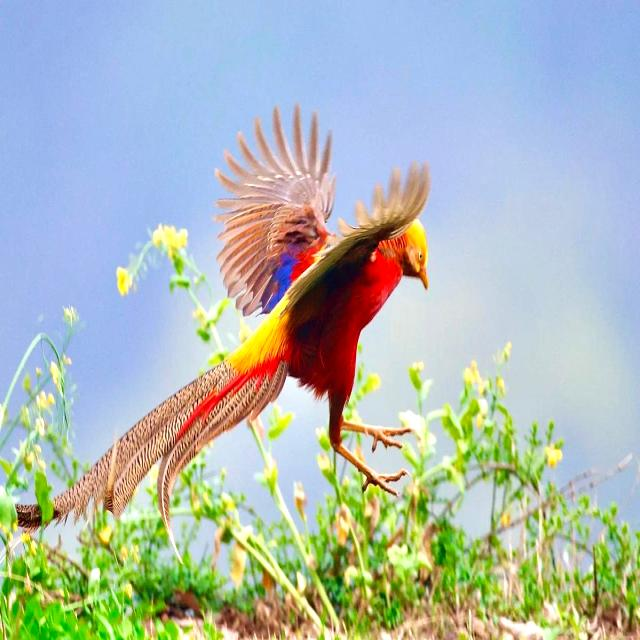Chrysolophus pictus feather: (53, 362, 288, 546)
